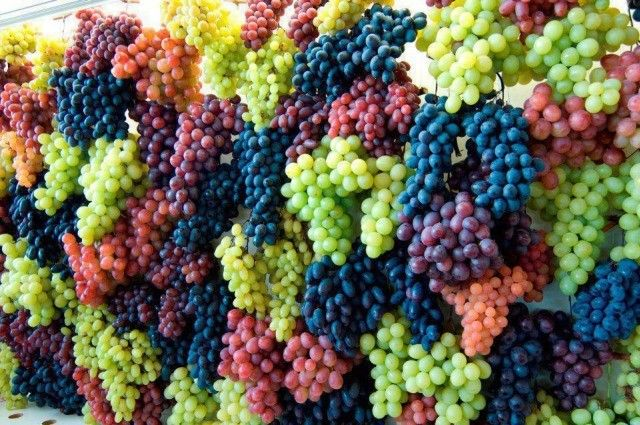Black grapes: (413, 97, 450, 211)
Green grapes: (288, 152, 407, 254), (428, 18, 515, 103), (75, 144, 135, 240)
